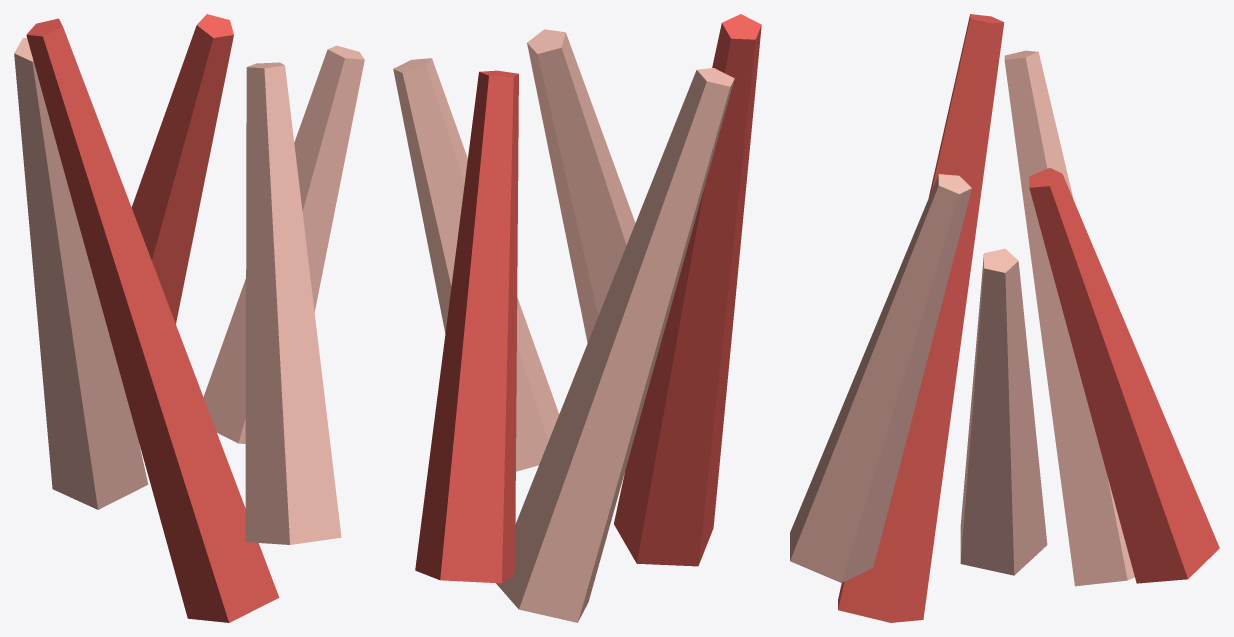
The model's file is coral.glb.
3 views of the same model, side by side, from view 1: azimuth 30°, elevation 25°; view 2: azimuth 150°, elevation 25°; view 3: azimuth 270°, elevation 25° (orthographic). The views are drawn at different scales.
Parts seen in each view (by area): view 1: coral; view 2: coral; view 3: coral.
Part boxes in pixels (x1,y1,x2,y2): coral: (14, 14, 364, 622); coral: (393, 14, 761, 622); coral: (790, 14, 1219, 622).
Size of the model in its own units: 0.387 by 0.6312 by 0.4482.
